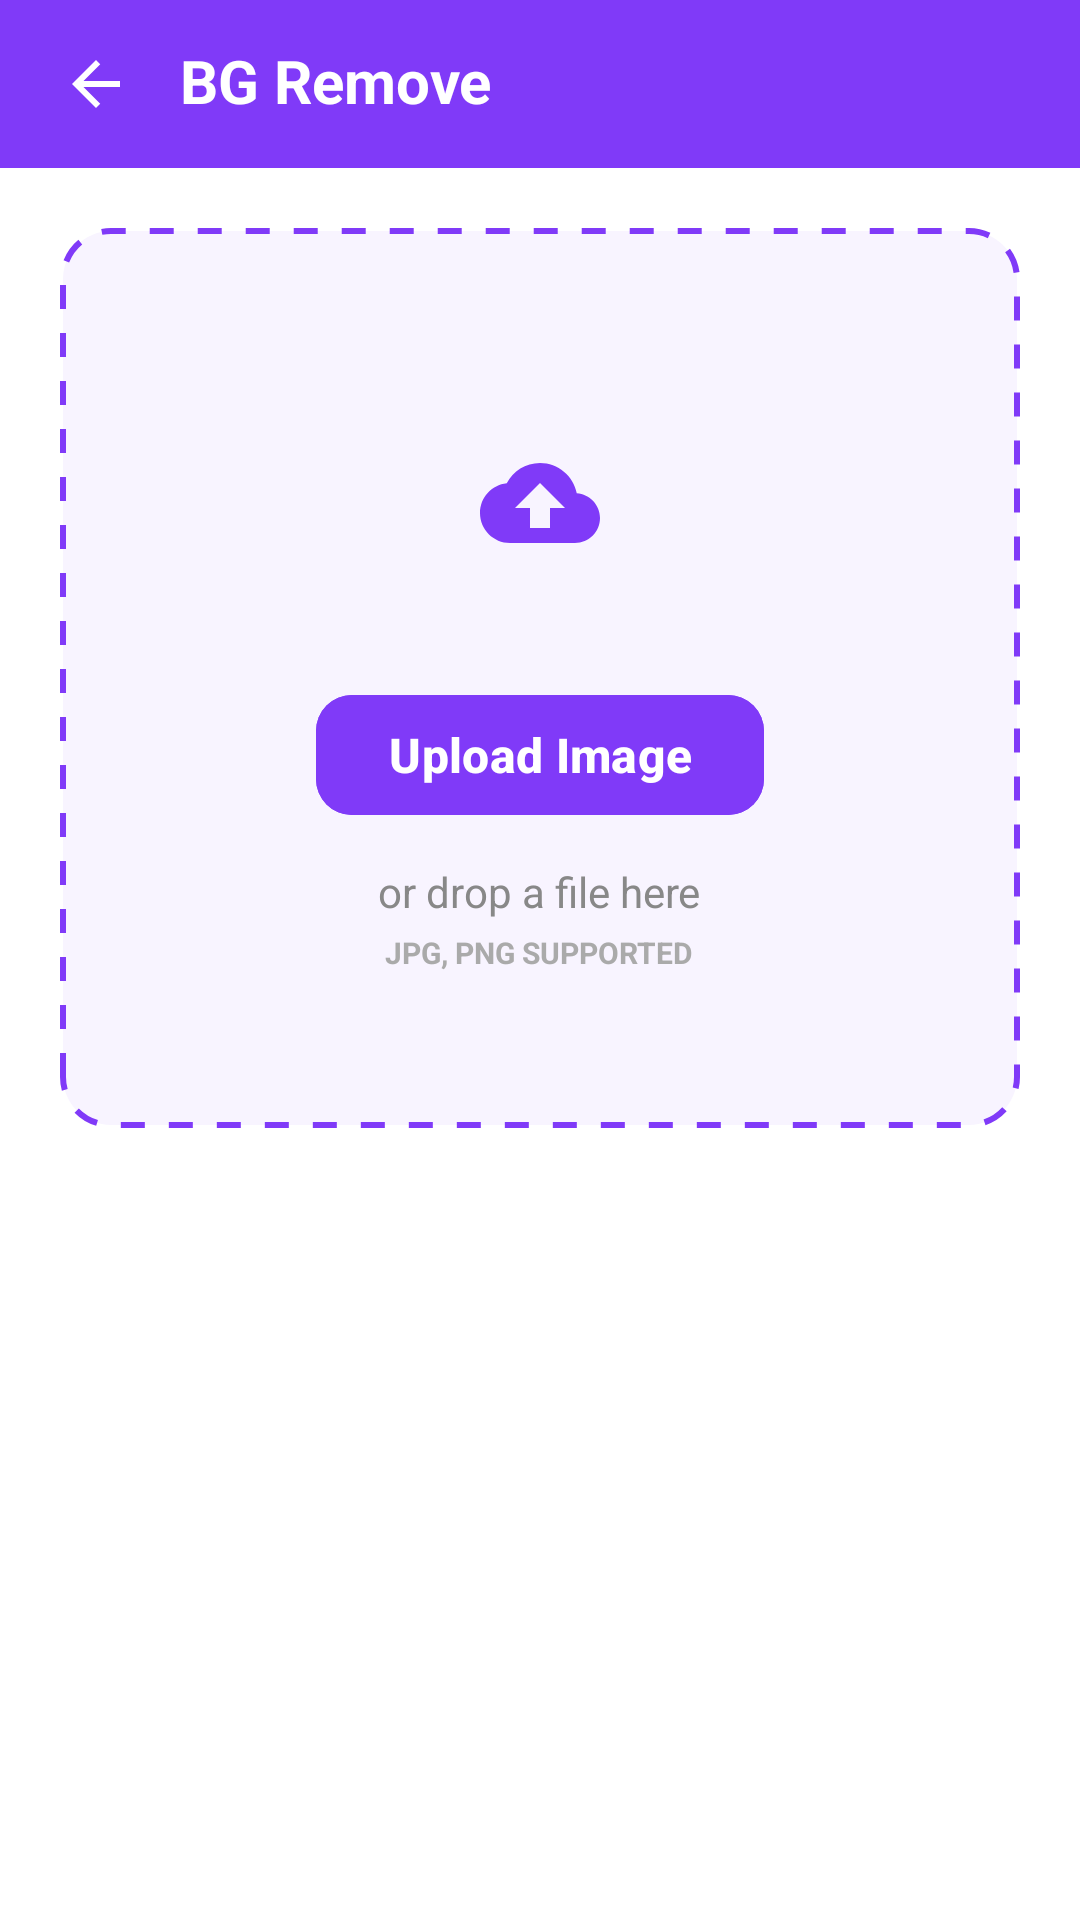

Point at icon controls on the screen. Image size 1080 × 1920, points as (x,y).
back: (96,84)
cloud upload: (540,503)
